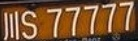S: (22, 11, 37, 39)
